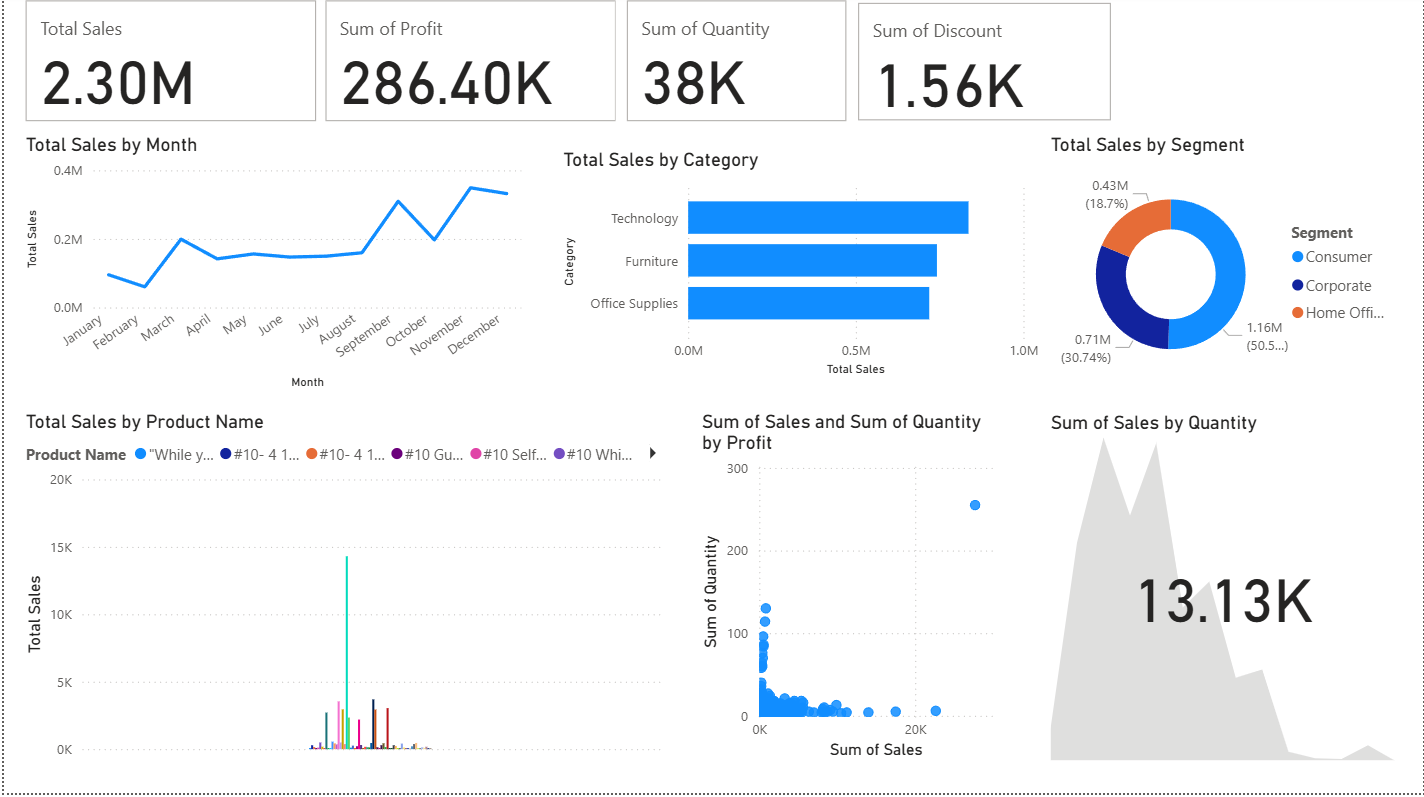

The dashboard page shown, as its layout file describes it:
{"tool":"powerbi","page":{"name":"Page 1","canvas":[1280,720],"ordinal":0},"visuals":[{"type":"cardVisual","fields":{"Data":["Superstore_Cleaned.Total Sales","Sum(Superstore_Cleaned.Profit)"]},"box":[15.1,0,542,119.4],"z":0},{"type":"cardVisual","fields":{"Data":["Sum(Superstore_Cleaned.Quantity)"]},"box":[557.1,0,208.6,119.4],"z":1000},{"type":"cardVisual","fields":{"Data":["Sum(Superstore_Cleaned.Discount)"]},"box":[765.7,2.7,238.8,116.6],"z":2000},{"type":"lineChart","fields":{"Category":["Superstore_Cleaned.Order Date.Variation.Date Hierarchy.Year","Superstore_Cleaned.Order Date.Variation.Date Hierarchy.Quarter","Superstore_Cleaned.Order Date.Variation.Date Hierarchy.Month","Superstore_Cleaned.Order Date.Variation.Date Hierarchy.Day"],"Y":["Superstore_Cleaned.Total Sales"]},"box":[15.1,124.9,456.9,234.6],"z":3000},{"type":"clusteredBarChart","fields":{"Category":["Superstore_Cleaned.Category"],"Y":["Superstore_Cleaned.Total Sales"]},"box":[499.5,138.6,439.1,209.9],"z":3001},{"type":"donutChart","fields":{"Category":["Superstore_Cleaned.Segment"],"Y":["Superstore_Cleaned.Total Sales"]},"box":[938.6,124.9,319.7,234.6],"z":3002},{"type":"clusteredColumnChart","fields":{"Series":["Superstore_Cleaned.Product Name"],"Y":["Superstore_Cleaned.Total Sales"]},"box":[15.1,374.6,585.9,319.7],"z":3003},{"type":"scatterChart","fields":{"Category":["Superstore_Cleaned.Profit"],"X":["Sum(Superstore_Cleaned.Sales)"],"Y":["Sum(Superstore_Cleaned.Quantity)"]},"box":[624.4,374.6,282.7,319.7],"z":3004},{"type":"kpi","fields":{"Indicator":["Sum(Superstore_Cleaned.Sales)"],"TrendLine":["Superstore_Cleaned.Quantity"]},"box":[939,375,320,320],"z":3005}]}

Visuals, with their boxes in screenshot pixels (x1, y1, x2, y2), scaled from the page's 1280x720 canvas onto the 1424x797 screenshot:
cardVisual - Superstore_Cleaned.Total Sales x Sum(Superstore_Cleaned.Profit): (x1=17, y1=0, x2=620, y2=132)
cardVisual - Sum(Superstore_Cleaned.Quantity): (x1=620, y1=0, x2=852, y2=132)
cardVisual - Sum(Superstore_Cleaned.Discount): (x1=852, y1=3, x2=1118, y2=132)
lineChart - Superstore_Cleaned.Order Date.Variation.Date Hierarchy.Year x Superstore_Cleaned.Order Date.Variation.Date Hierarchy.Quarter: (x1=17, y1=138, x2=525, y2=398)
clusteredBarChart - Superstore_Cleaned.Category x Superstore_Cleaned.Total Sales: (x1=556, y1=153, x2=1044, y2=386)
donutChart - Superstore_Cleaned.Segment x Superstore_Cleaned.Total Sales: (x1=1044, y1=138, x2=1400, y2=398)
clusteredColumnChart - Superstore_Cleaned.Product Name x Superstore_Cleaned.Total Sales: (x1=17, y1=415, x2=669, y2=769)
scatterChart - Superstore_Cleaned.Profit x Sum(Superstore_Cleaned.Sales): (x1=695, y1=415, x2=1009, y2=769)
kpi - Sum(Superstore_Cleaned.Sales) x Superstore_Cleaned.Quantity: (x1=1045, y1=415, x2=1401, y2=769)
